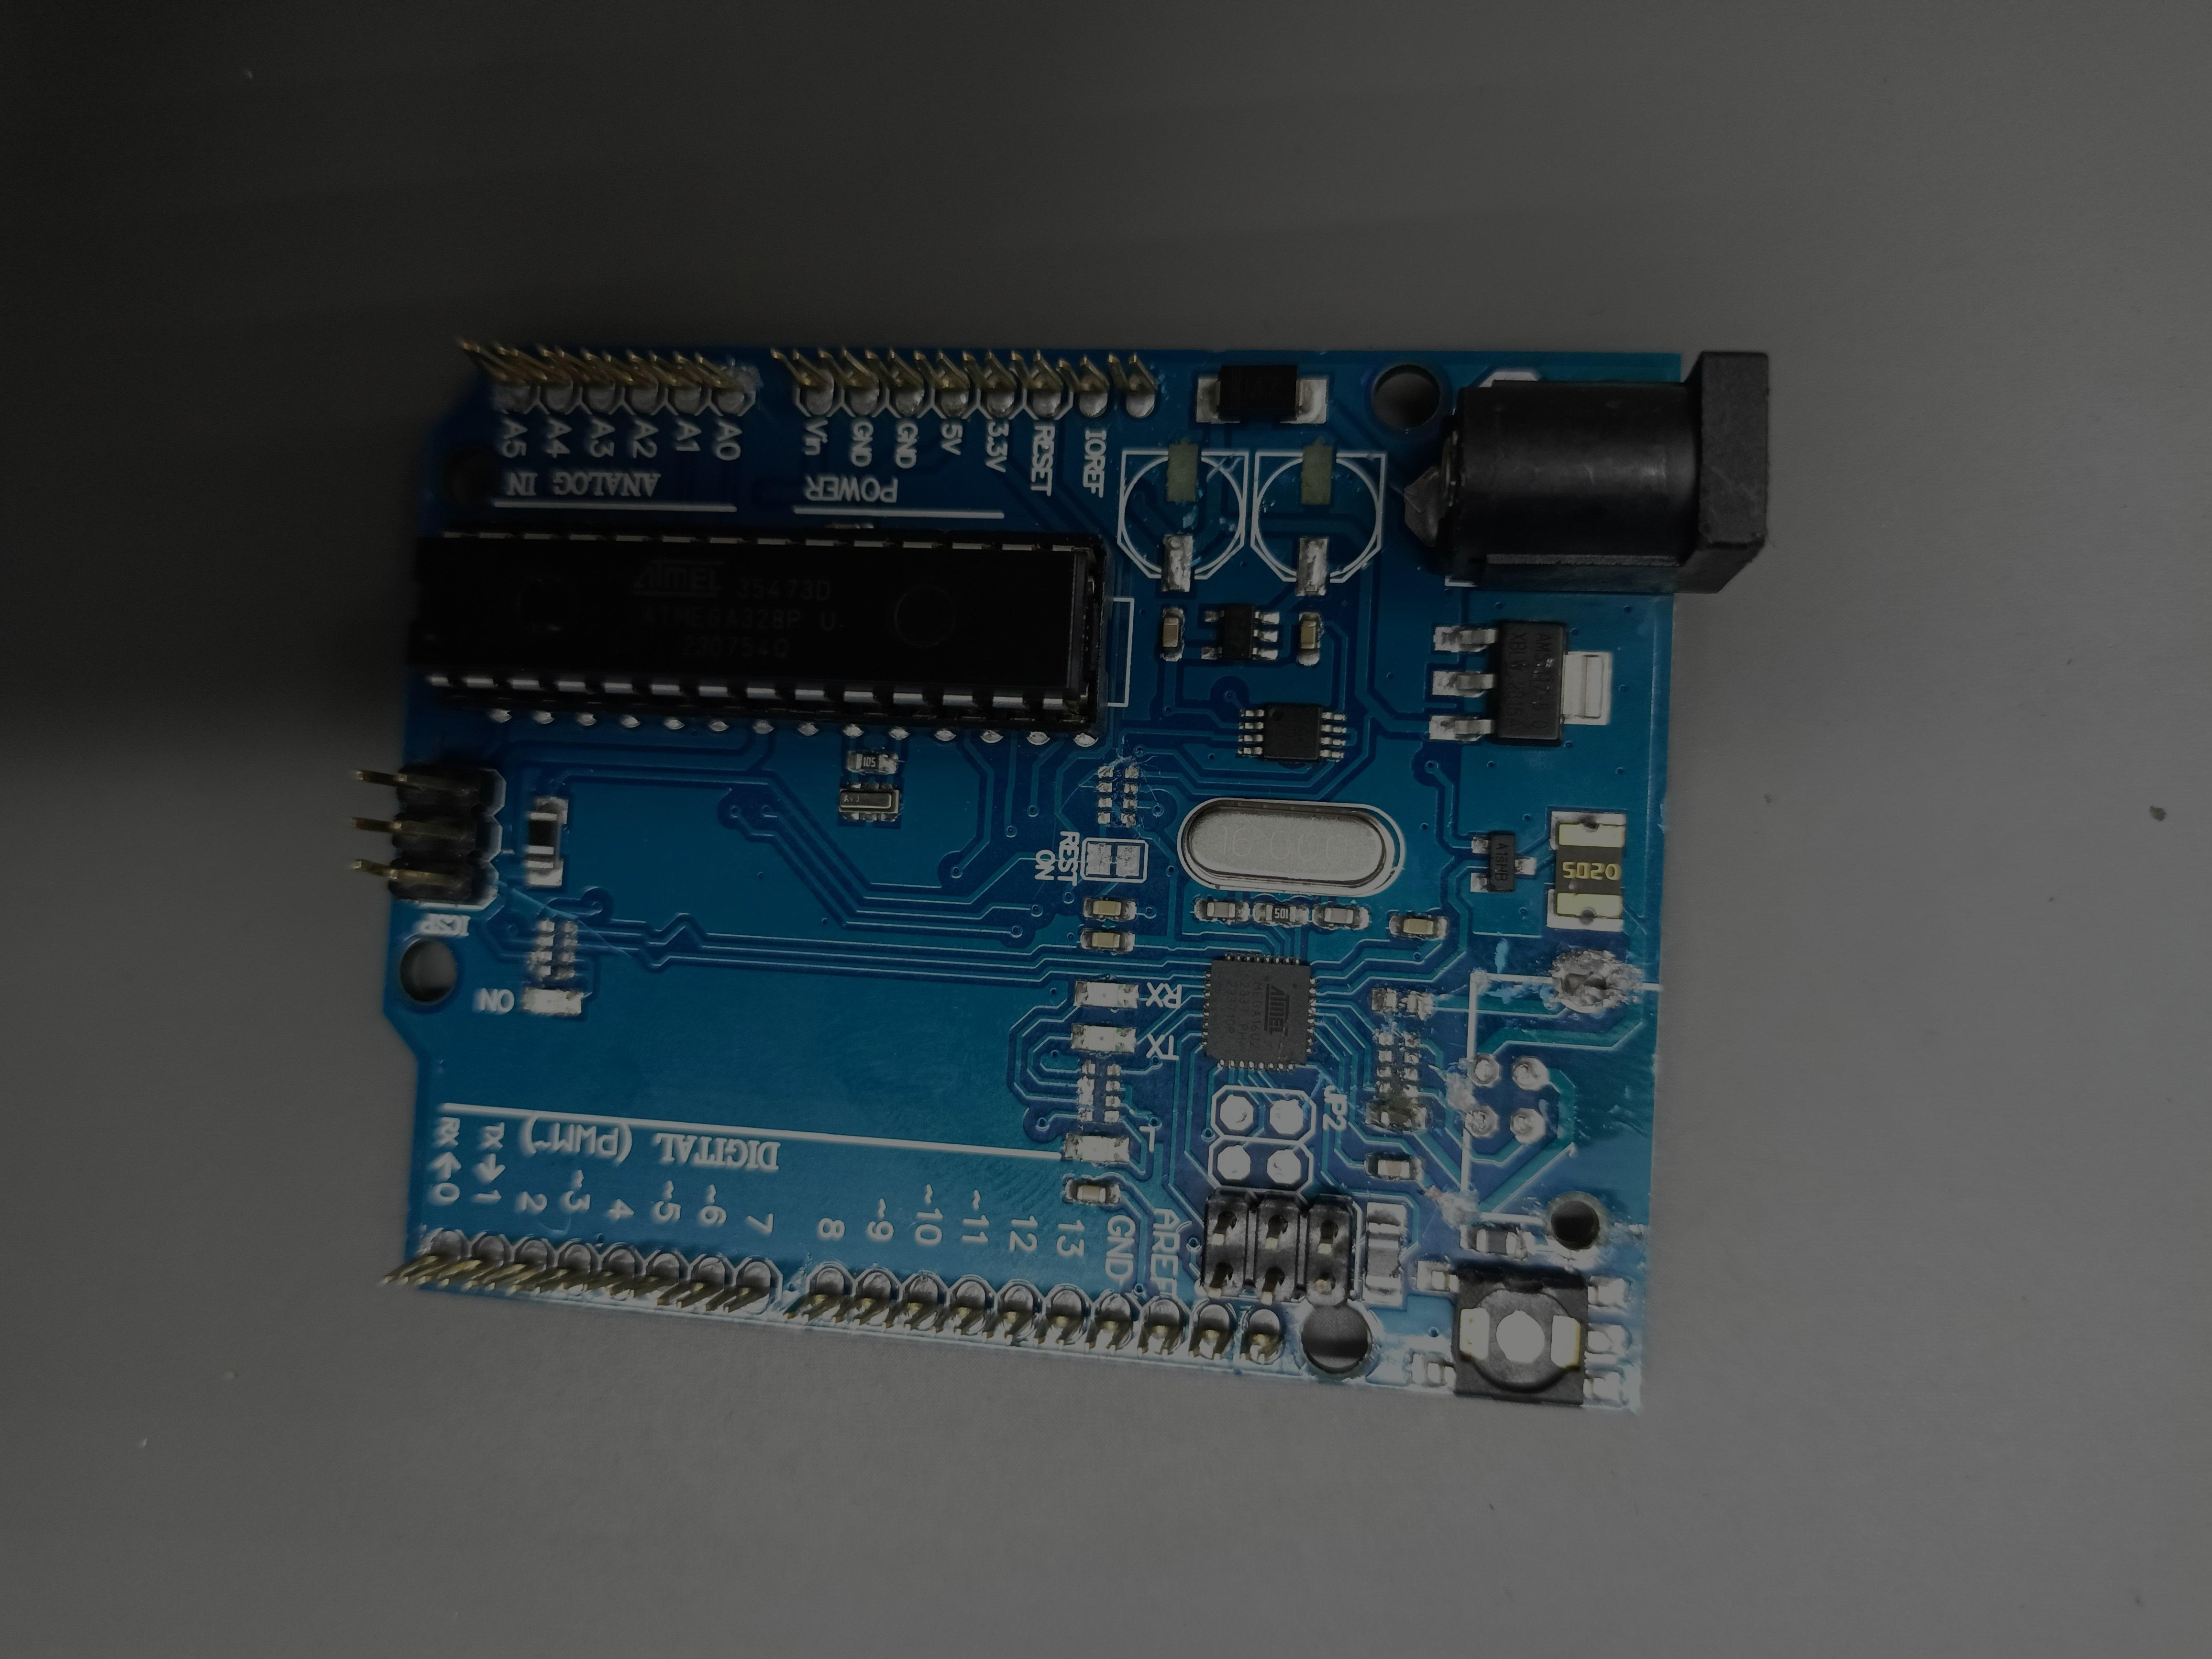ATmega328 chip: (406, 519, 1116, 741)
Arduino board: (347, 342, 1768, 1412)
